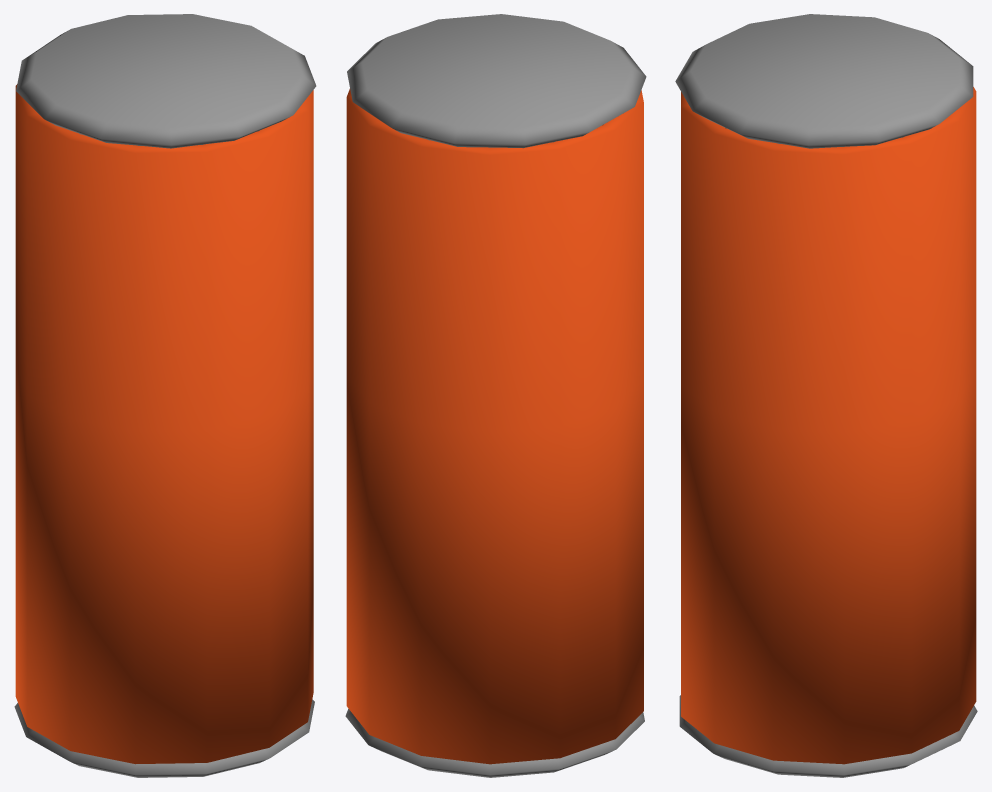
The model's file is CanetteCoca.fbx.
3 renders of one model, left to right at view 1: azimuth 30°, elevation 25°; view 2: azimuth 150°, elevation 25°; view 3: azimuth 270°, elevation 25°, orthographic.
Parts seen in each view (by area): view 1: Canette Coca; view 2: Canette Coca; view 3: Canette Coca.
Boxes of the visible parts, <box> form: Canette Coca: <box>14,14,316,777</box>; Canette Coca: <box>345,14,646,777</box>; Canette Coca: <box>675,14,977,777</box>.
Size of the model in its own units: 198 by 474 by 200.
